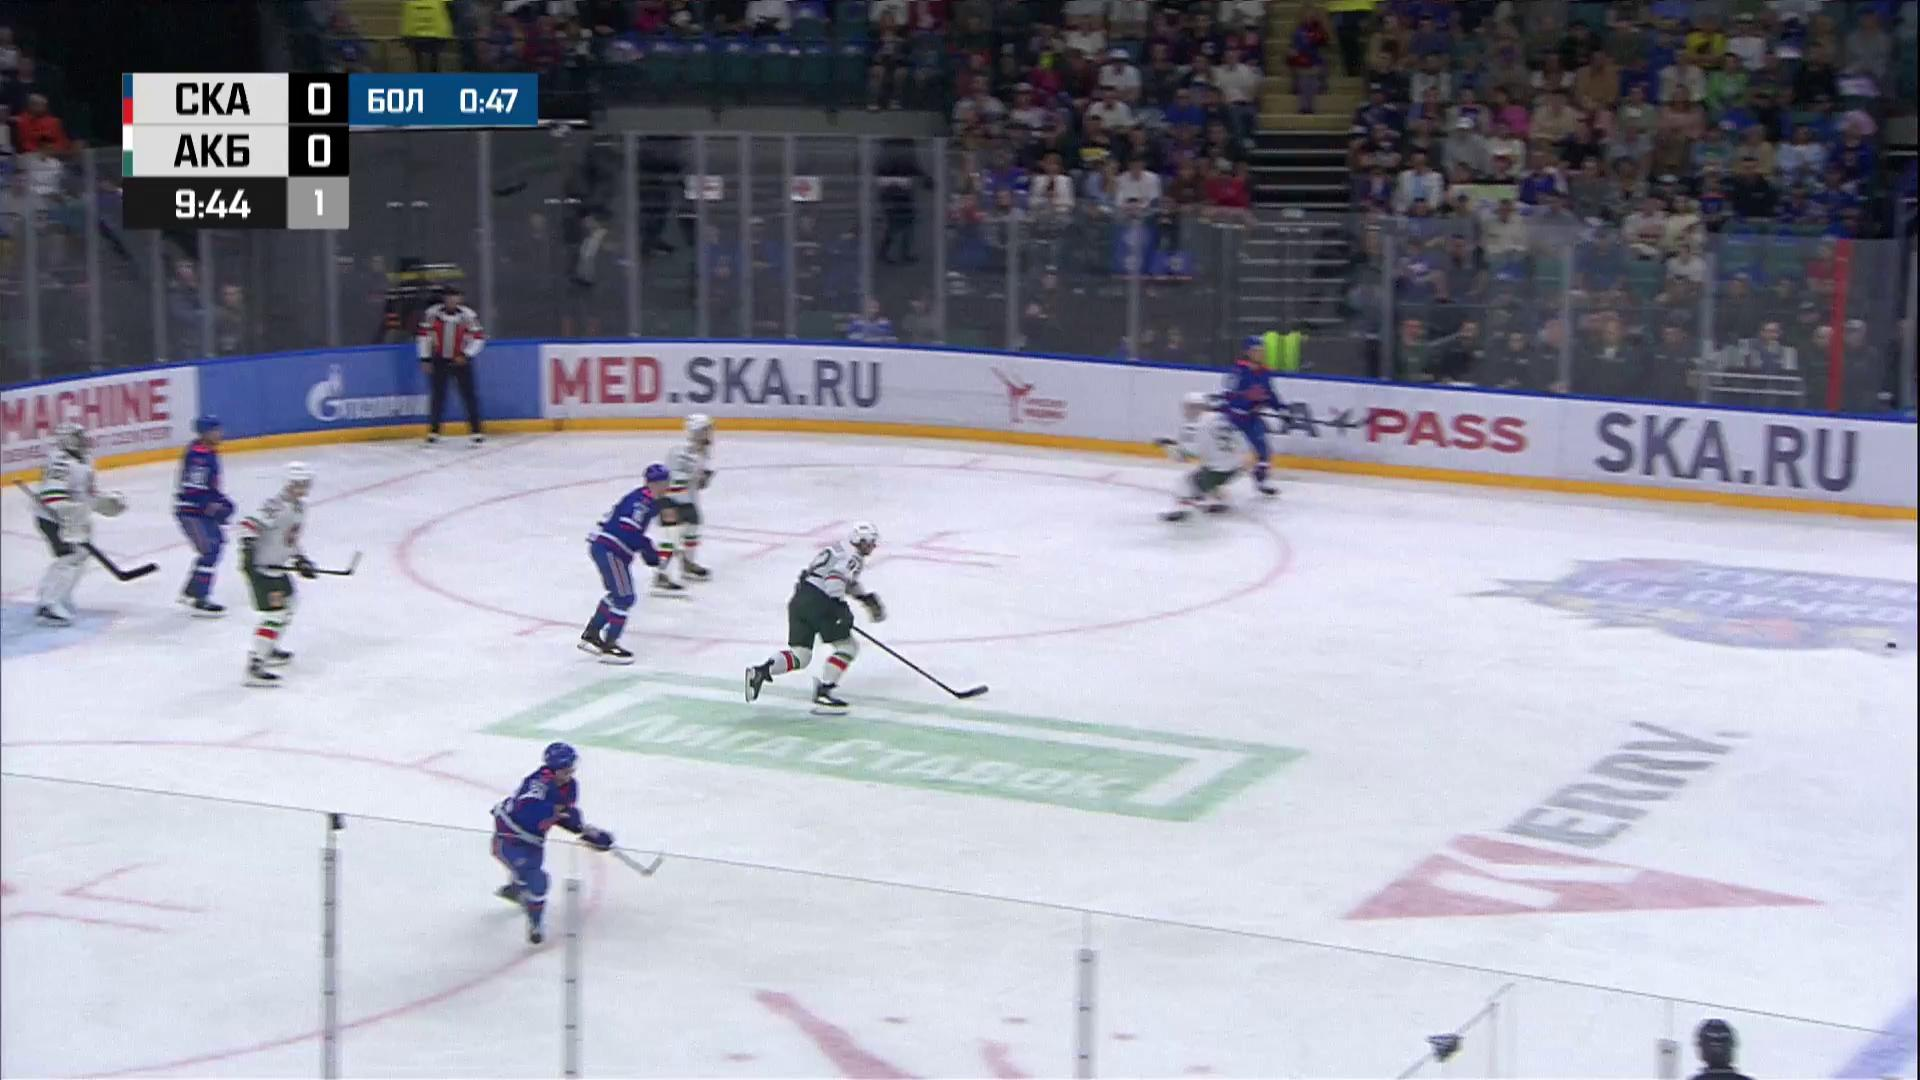ball: (1886, 642, 1898, 649)
